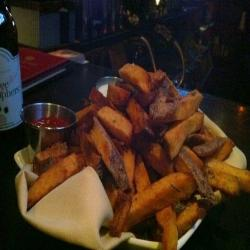fries: (87, 79, 238, 239)
ketchup: (17, 94, 76, 147)
